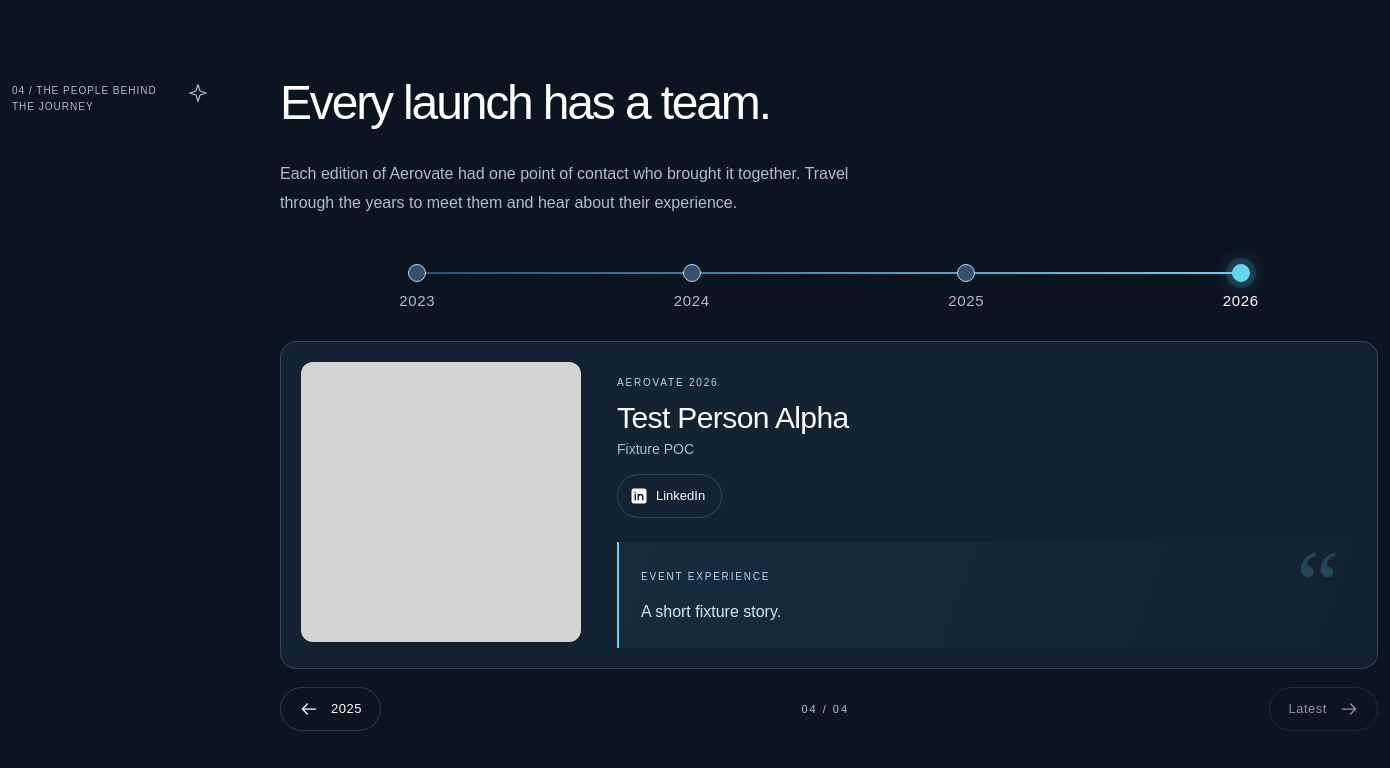
Scenario: Past-year POC timeline › steps with previous and next buttons and announces the change
Expected: the button with aria-label "Next year" is disabled, [1270,687,1378,731]
Step 1. Click the button named "Previous year, 2025" → (330, 709), box [280,687,381,731]
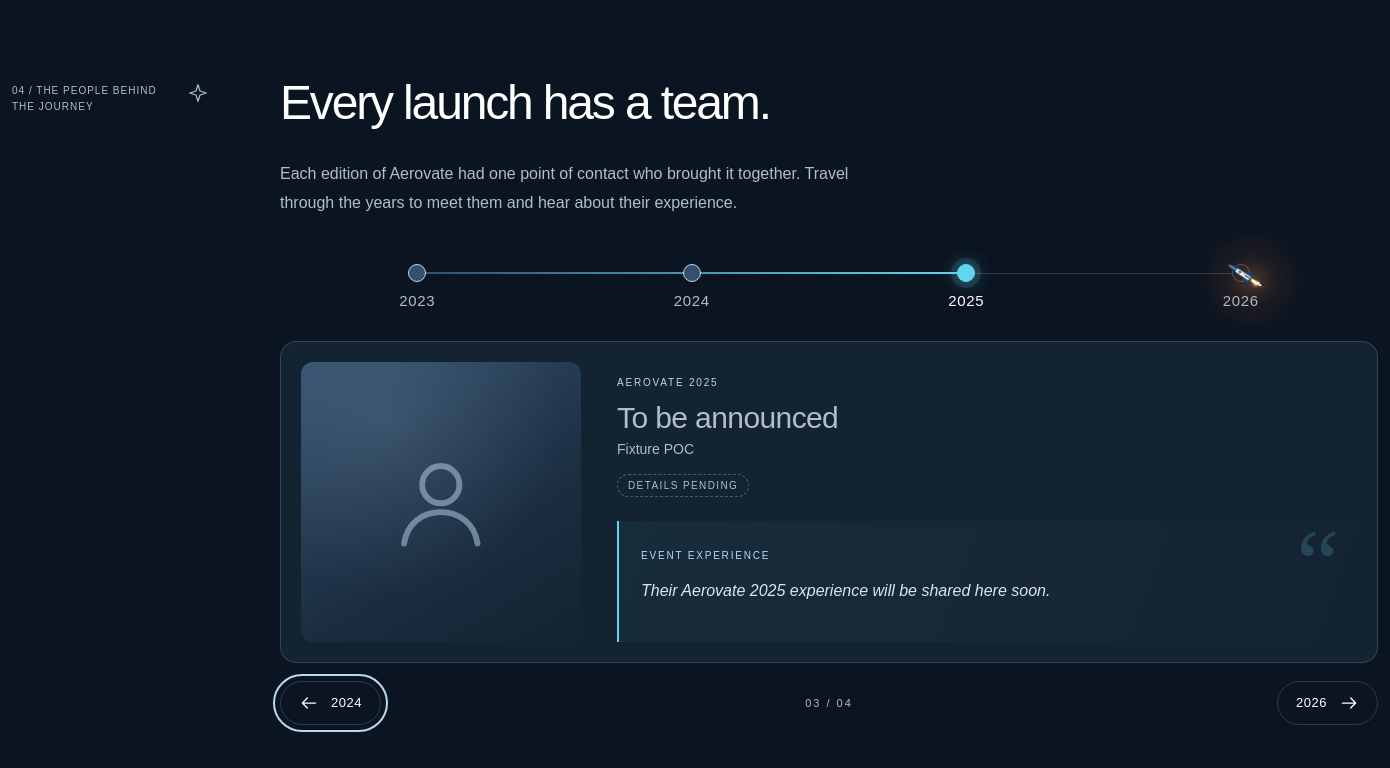
Expected: the heading "To be announced" is shown, [617,401,838,434]
Step 2. Click the button named "Next year, 2026" → (1328, 703), box [1277,681,1378,725]
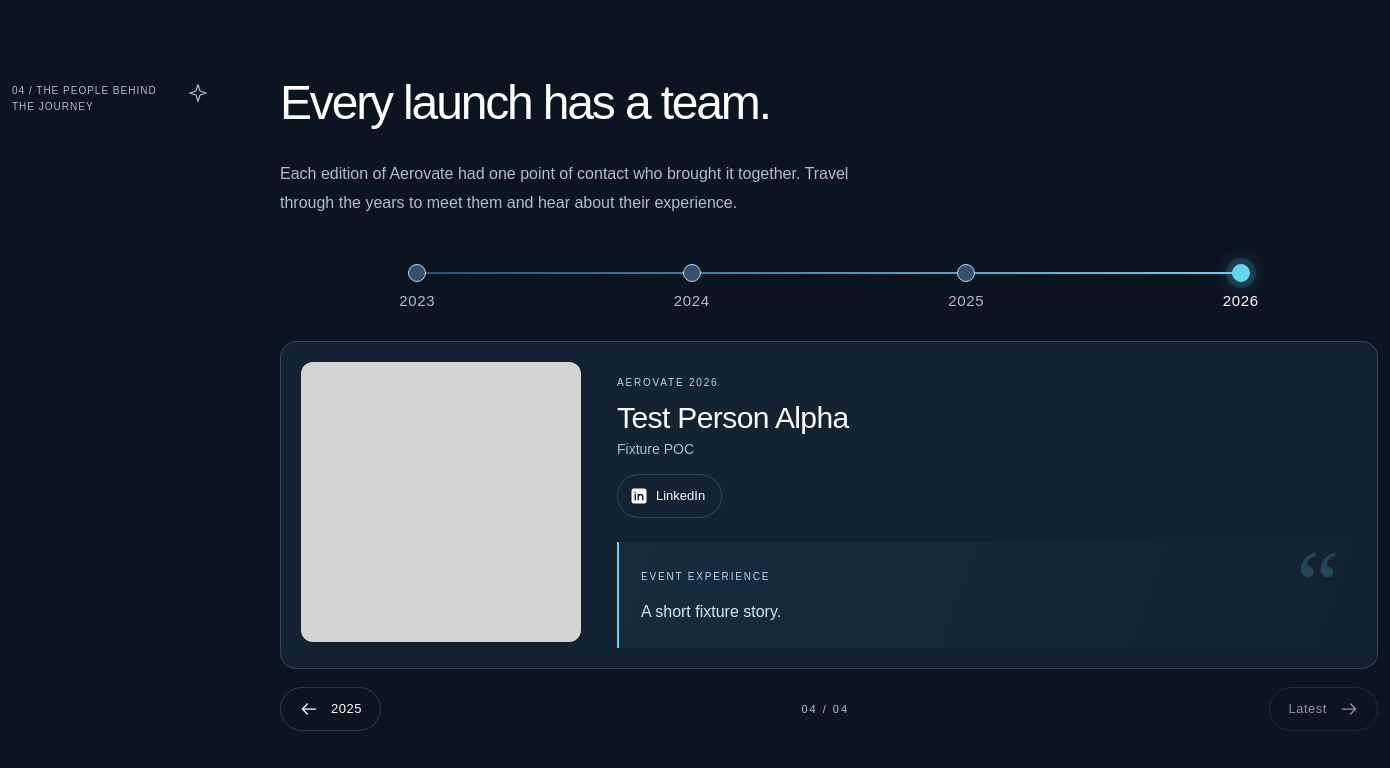
Expected: the heading "Test Person Alpha" is shown, [617,401,849,434]
